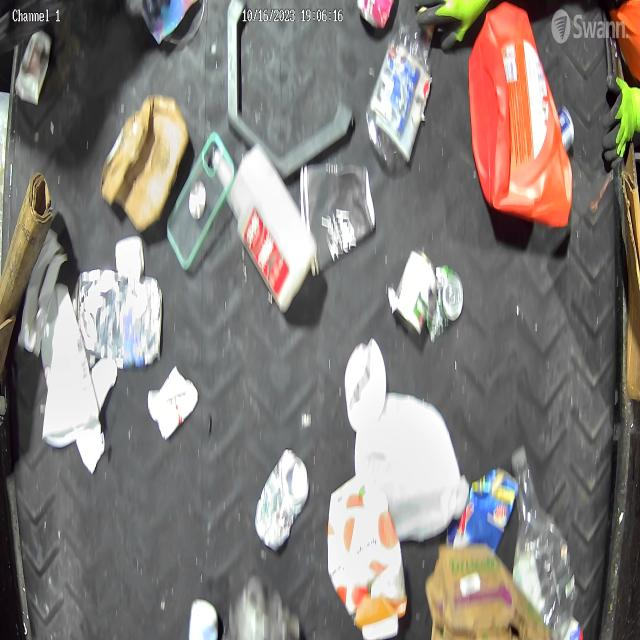can: (73, 268, 164, 367), (252, 447, 310, 552), (388, 248, 438, 340), (14, 29, 53, 103), (436, 266, 464, 342), (557, 103, 576, 151)
milk_jug: (209, 139, 316, 313), (354, 389, 469, 545)
non_white_jug: (469, 0, 572, 226), (329, 473, 409, 640)
plastic_bottle: (508, 448, 578, 634), (366, 8, 436, 170)
